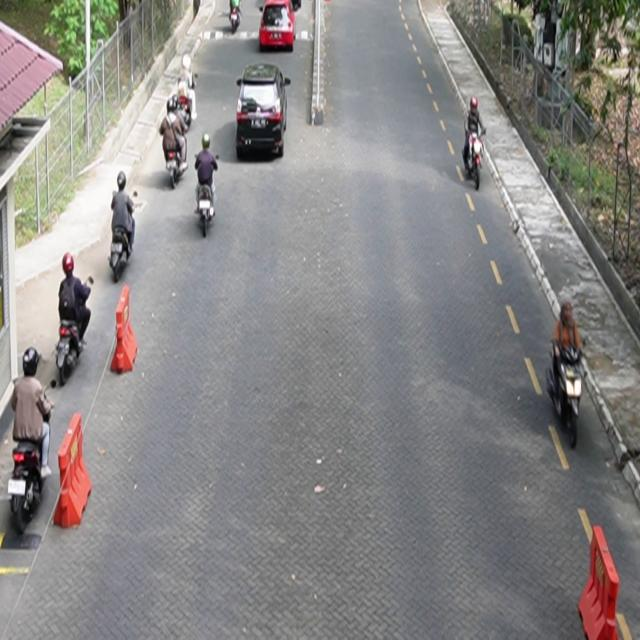car: (236, 63, 292, 160), (260, 1, 297, 52)
